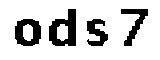7: (117, 6, 149, 50)
d: (45, 5, 78, 52)
o: (14, 18, 43, 50)
s: (84, 18, 109, 48)
